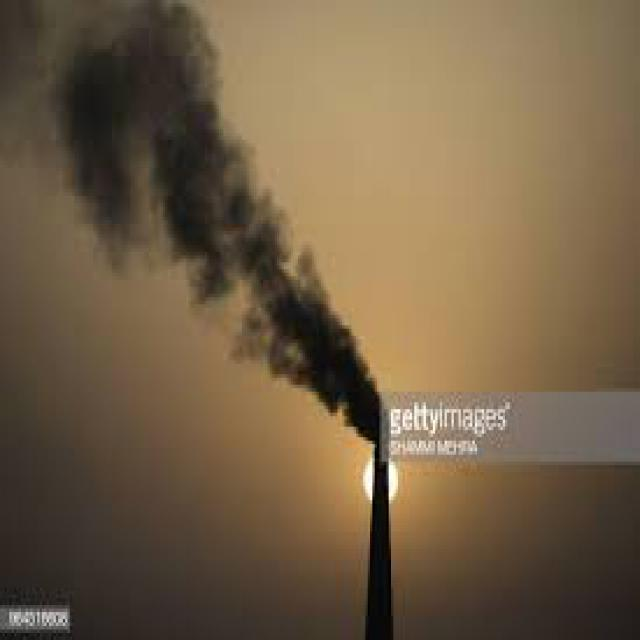Smoke: (0, 0, 386, 448)
